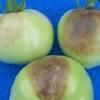tomato late blight: (10, 56, 95, 100), (58, 9, 100, 69)
